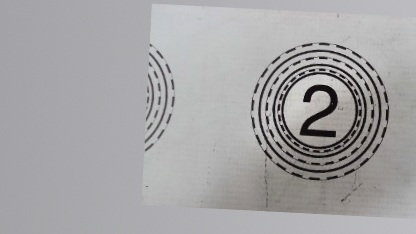2r: (244, 38, 392, 184)
